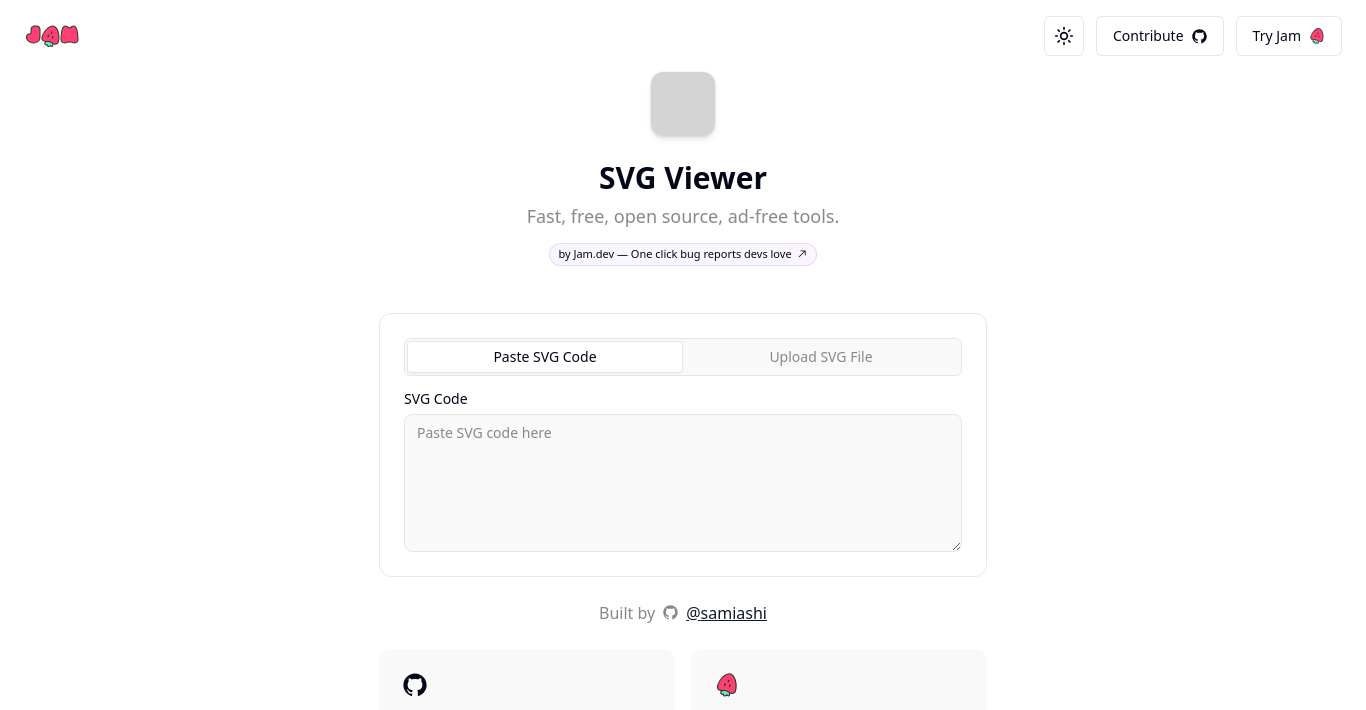
Test: SVGViewer › should show error for invalid SVG content
The image size is (1366, 710).
Type "not an svg" into the text box named "SVG code input".
click(683, 482); type("not an svg")  # box [404,414,962,552]
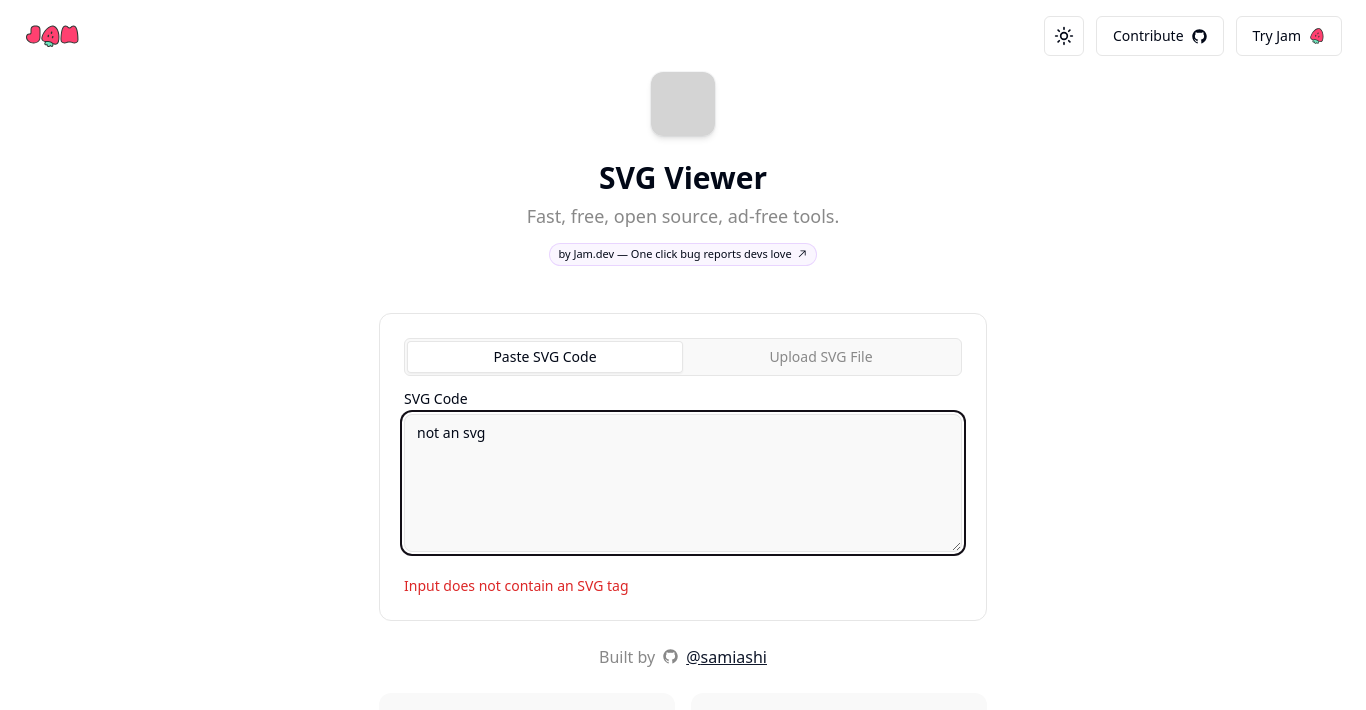
Now the text "Input does not contain an SVG tag" is shown, box [404,576,629,594]
